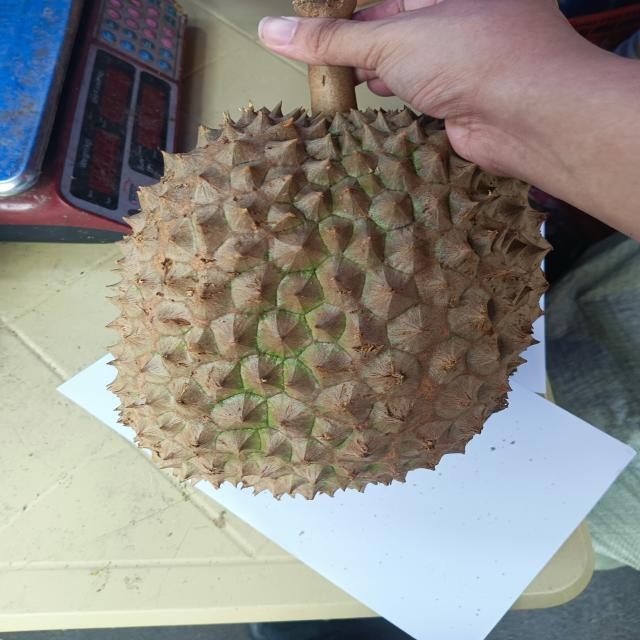mature: (103, 100, 548, 502)
